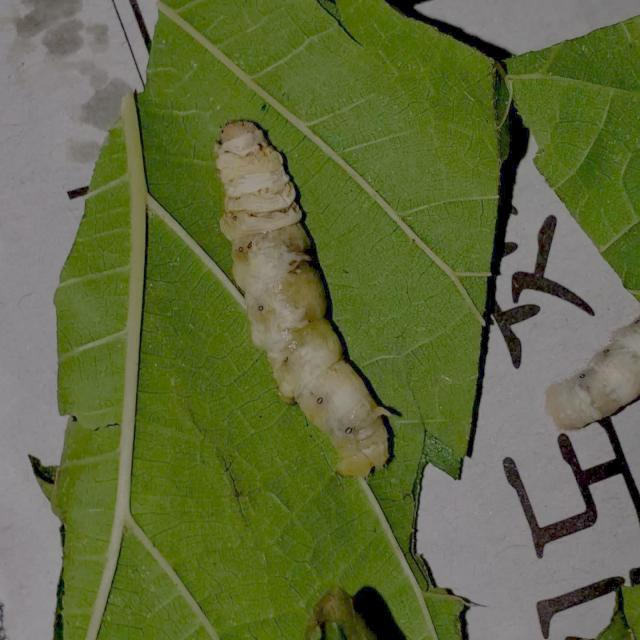Grasserie: (200, 88, 413, 486)
